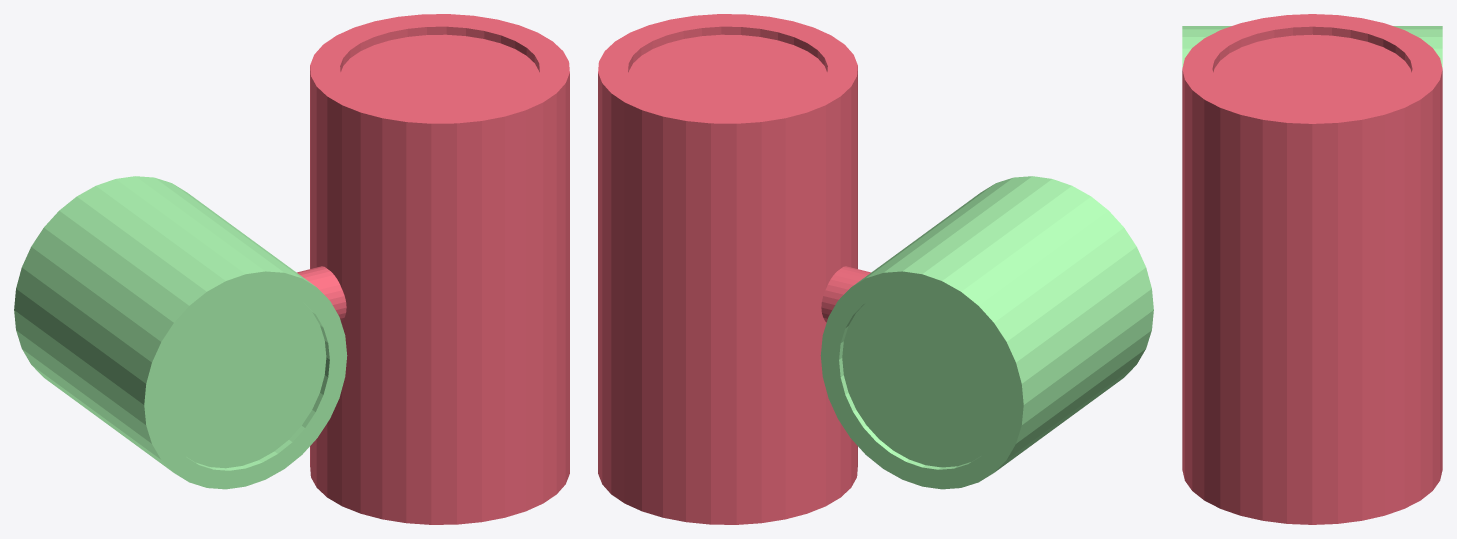
The picture shows the model from 3 angles, left to right: view 1: azimuth 30°, elevation 25°; view 2: azimuth 150°, elevation 25°; view 3: azimuth 270°, elevation 25°; orthographic projection.
Parts seen in each view (by area): view 1: Cylinder.001; view 2: Cylinder.001; view 3: Cylinder.001.
Part boxes in pixels (x1=…): Cylinder.001: x1=14, y1=14, x2=569, y2=524; Cylinder.001: x1=598, y1=14, x2=1153, y2=524; Cylinder.001: x1=1182, y1=14, x2=1442, y2=524.
Size of the model in its own units: 210 by 170 by 100.
